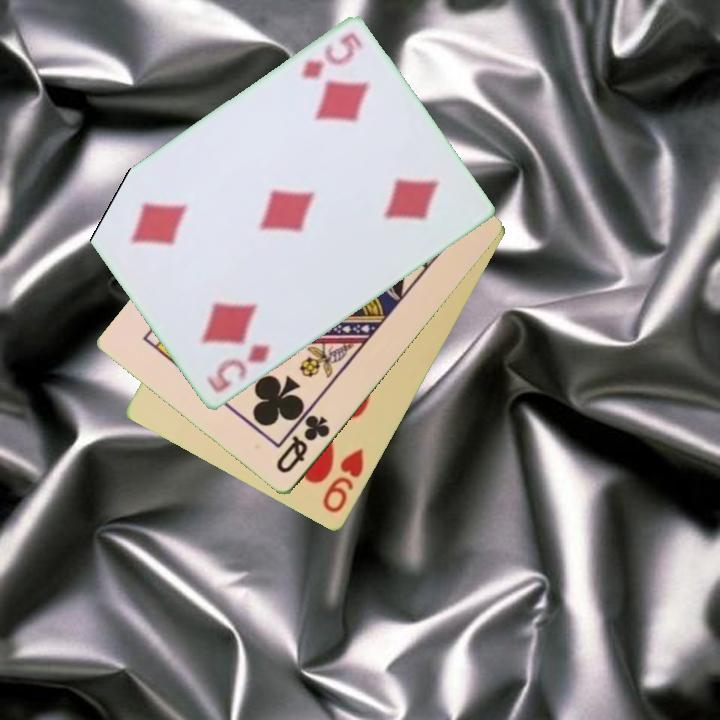5d: (202, 341, 274, 397), (298, 29, 366, 83)
9h: (319, 445, 367, 517)
Qc: (272, 411, 333, 477)
